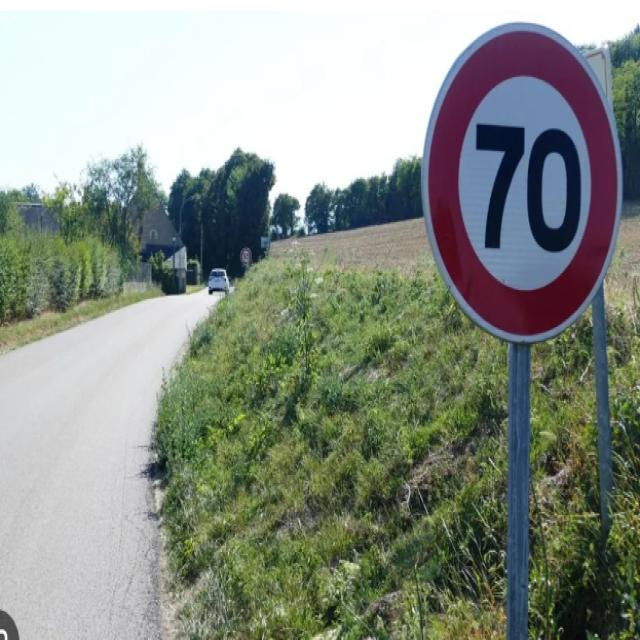speed_70: (419, 19, 624, 343)
